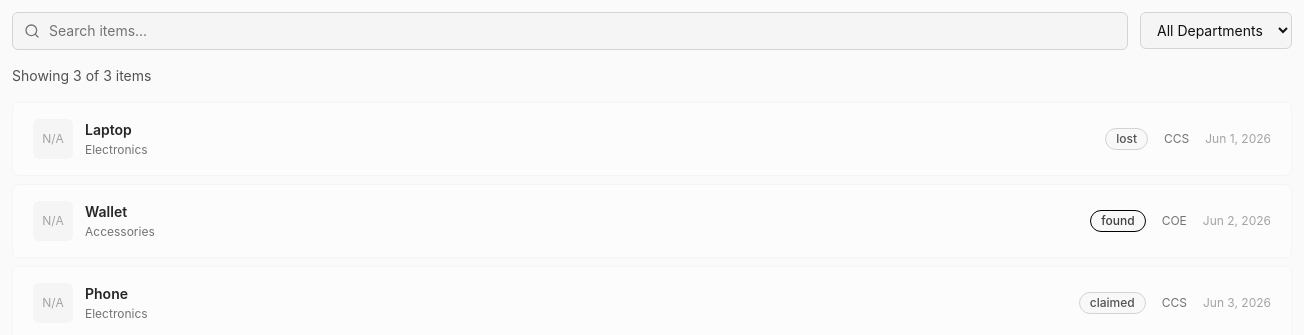
Test: GlobalLedger › department filter › filters items by department_origin
Select "COE" in the dropdown named "department filter" at x=1216, y=30, box [1140,12,1292,49]
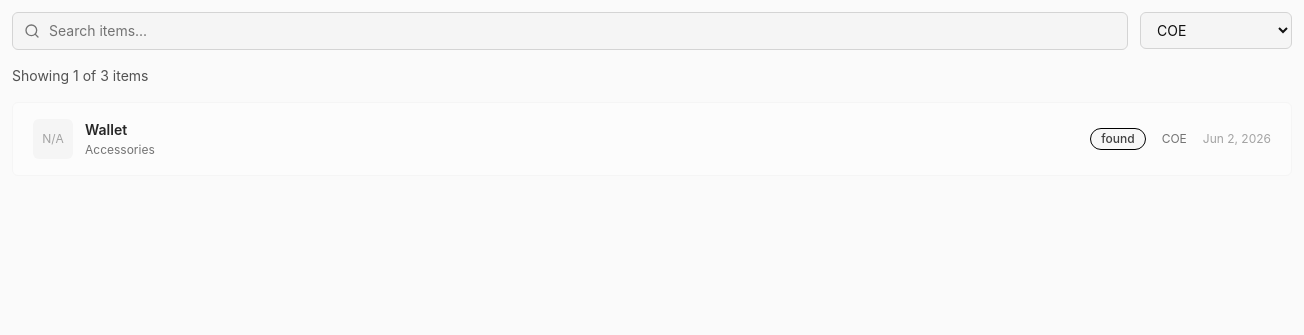
Expected: the text "Wallet" is shown, [85,121,127,138]
Expected: the text "Laptop" is gone
Expected: the text "Phone" is gone
